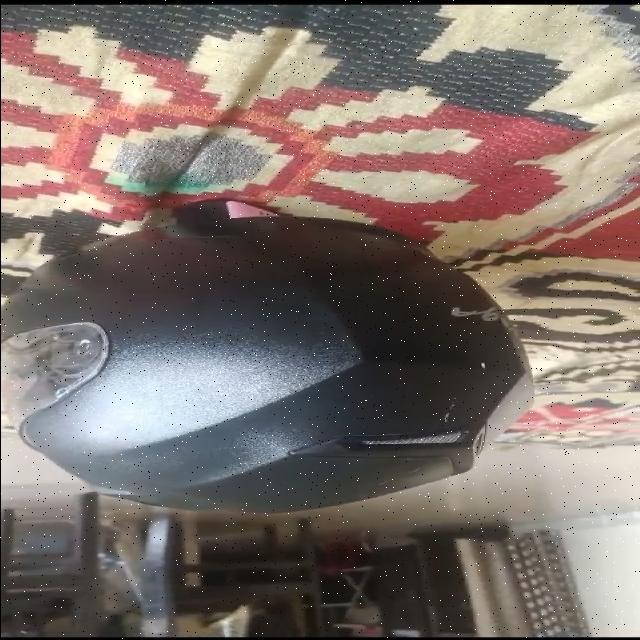Helmet: (0, 201, 531, 512)
